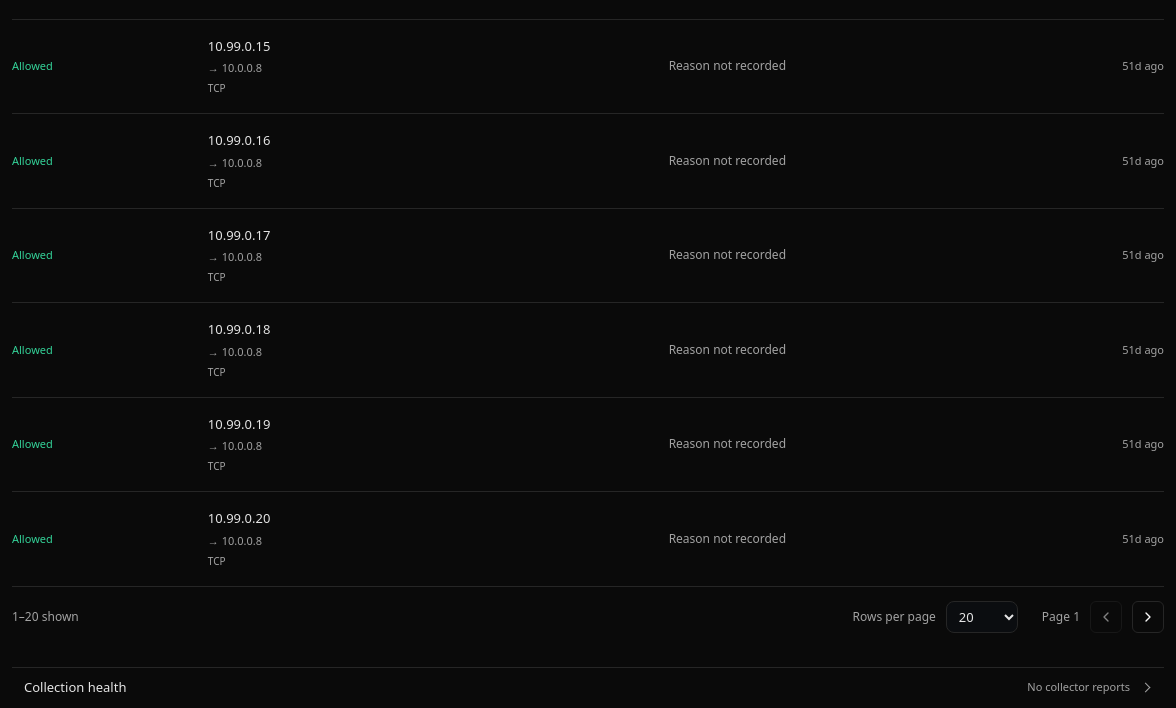
Test: Access event keyset pages › keeps network pages bounded, probes without skipping, and restores previous pages from cache
(page scrolled)
Click the button named "Next page". click: (1148, 616)
box: [1132,600,1164,632]
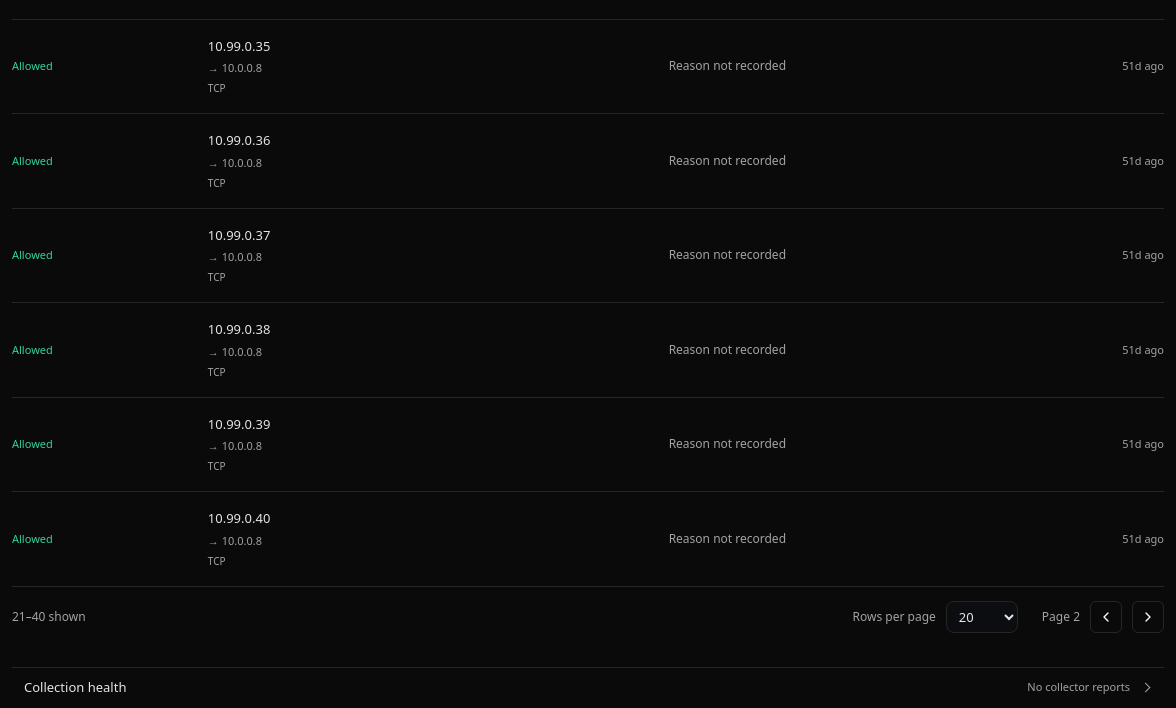
Now the text "Page 2" is shown, box [1042,608,1080,626]
Click the button named "Previous page". click: (1106, 616)
box: [1090,600,1122,632]
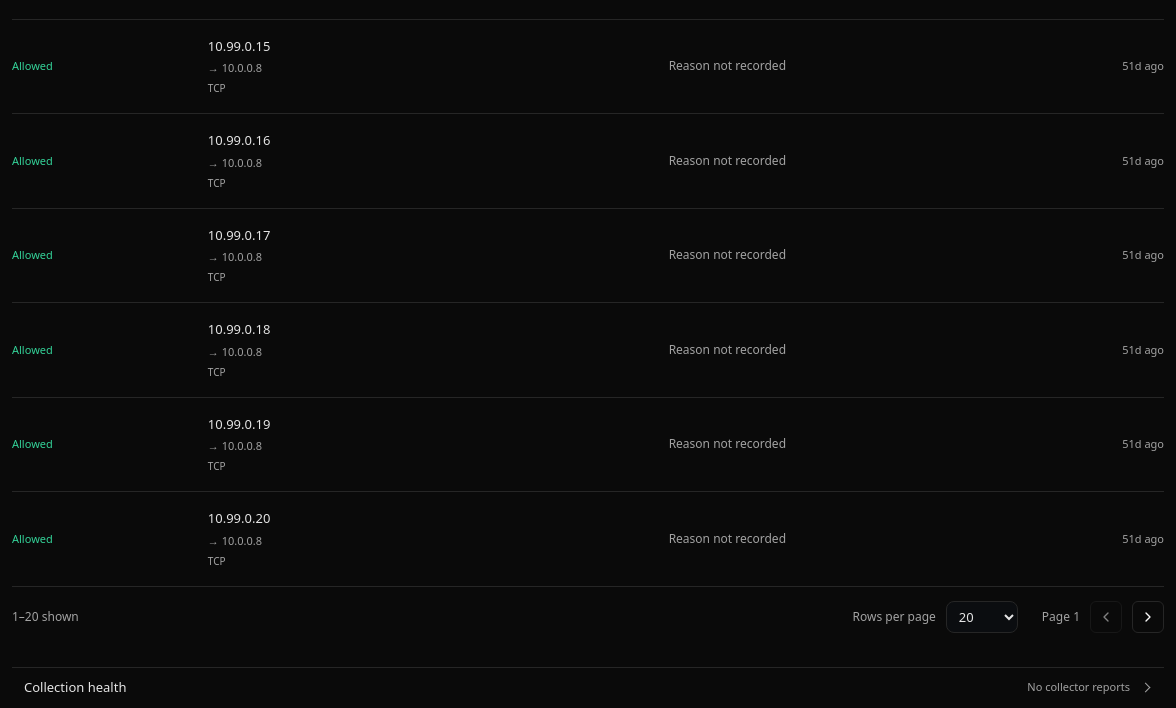
Now the text "Page 1" is shown, box [1042,608,1080,626]
Click the button named "Next page". click: (1148, 616)
box: [1132,600,1164,632]
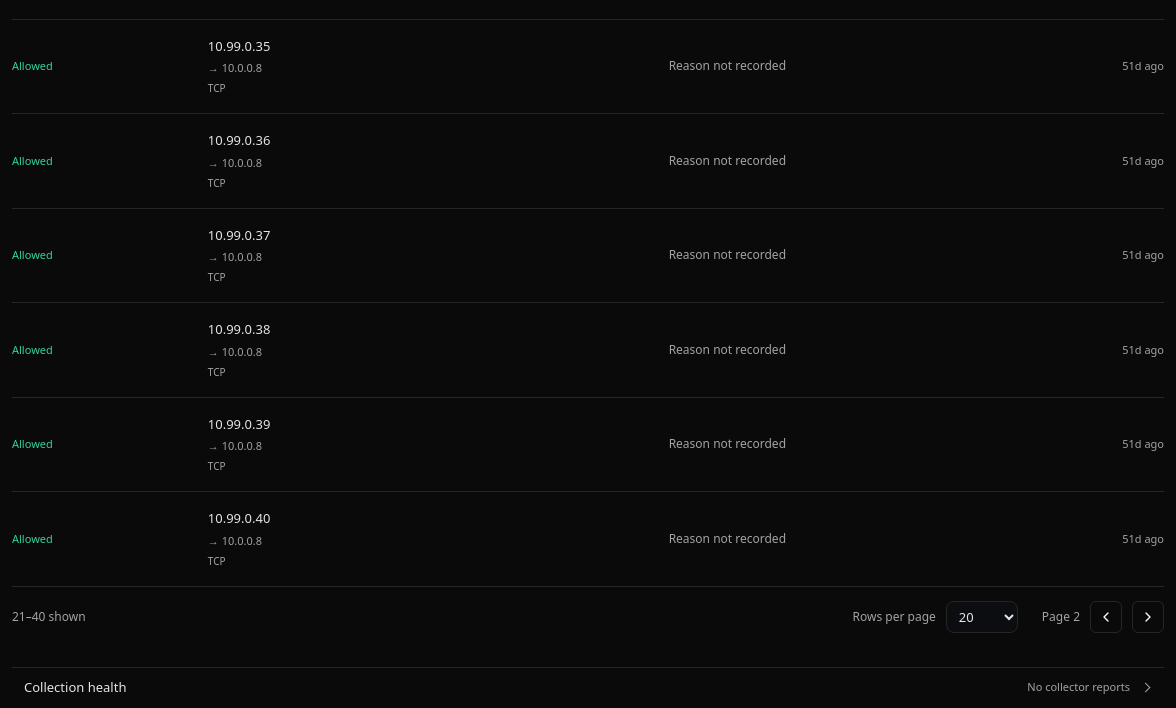
Click the button named "Next page". click: (1148, 616)
box: [1132,600,1164,632]
(page scrolled)
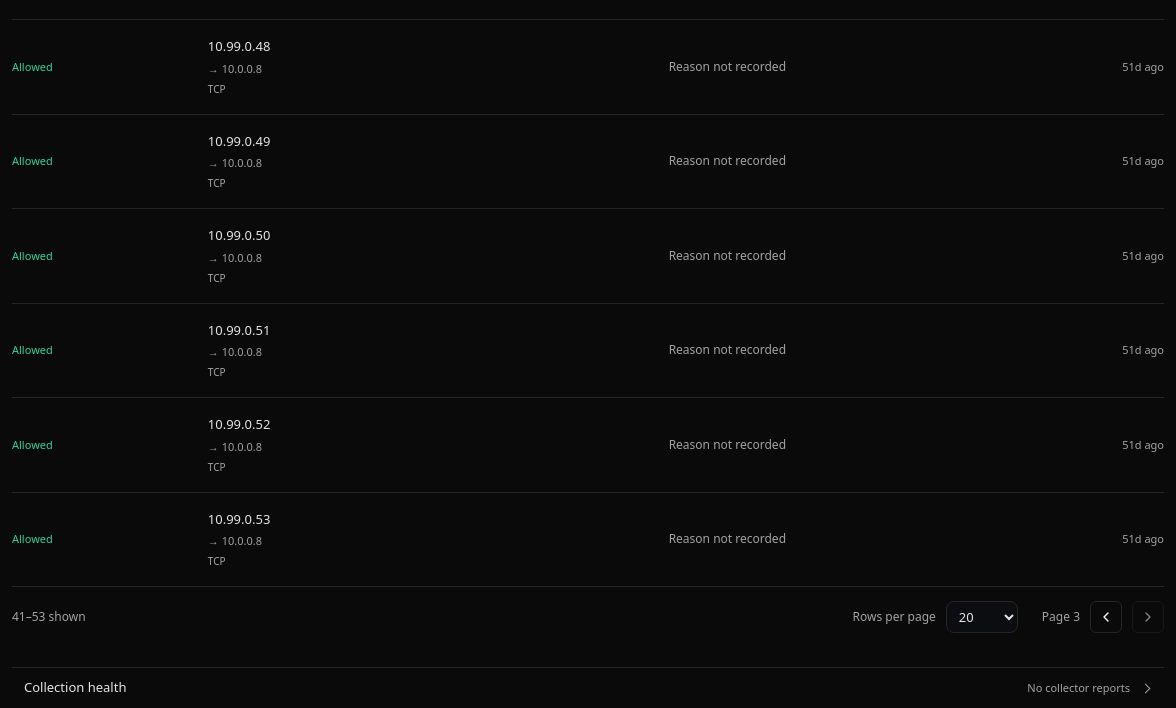
Expected: the button named "Previous page" is enabled, [1090,601,1122,633]
Now the text "Page 3" is shown, box [1042,608,1080,626]
